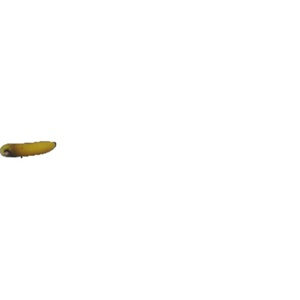banana: (2, 137, 58, 164)
